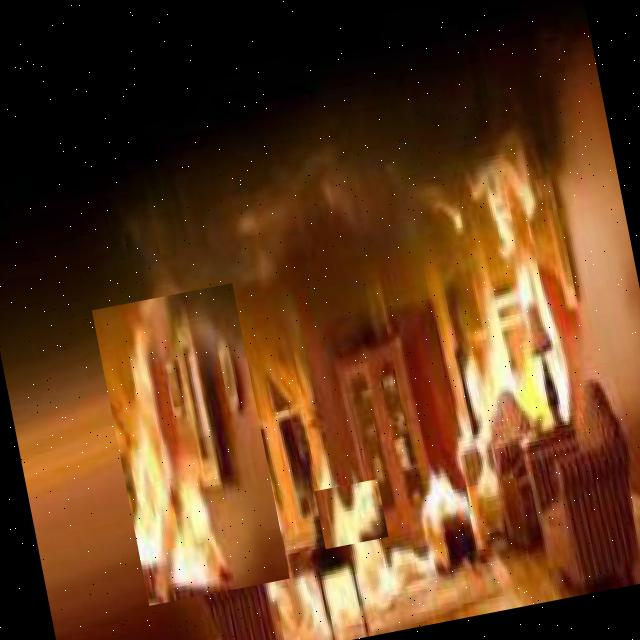fire: (92, 283, 290, 606), (446, 225, 604, 470), (374, 458, 459, 544), (314, 479, 388, 549)
